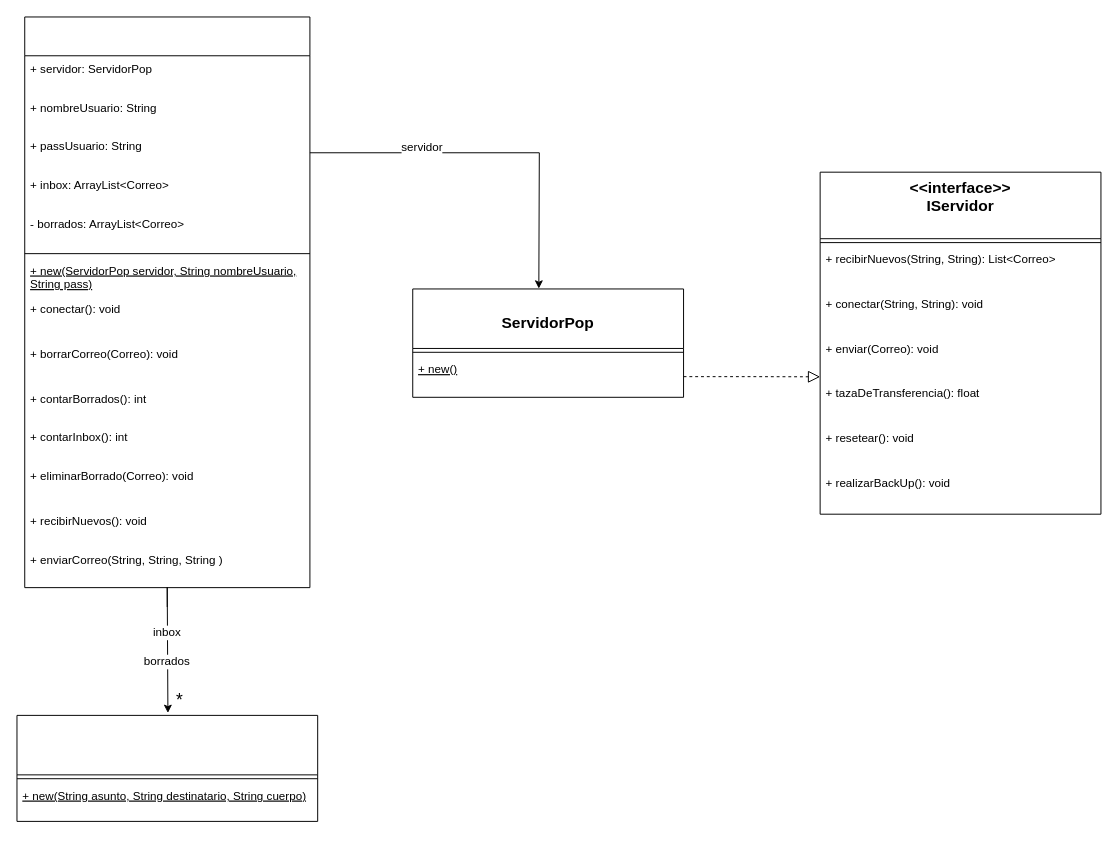
This 1118x841 diagram has some shape labels left out. The shapes that lost their labels are listed below. From the top down, each one's box as (x1, y1, x2, y2) in pixels, then its label:
(24, 16, 310, 588): ClienteEMail
(16, 714, 318, 821): Correo
